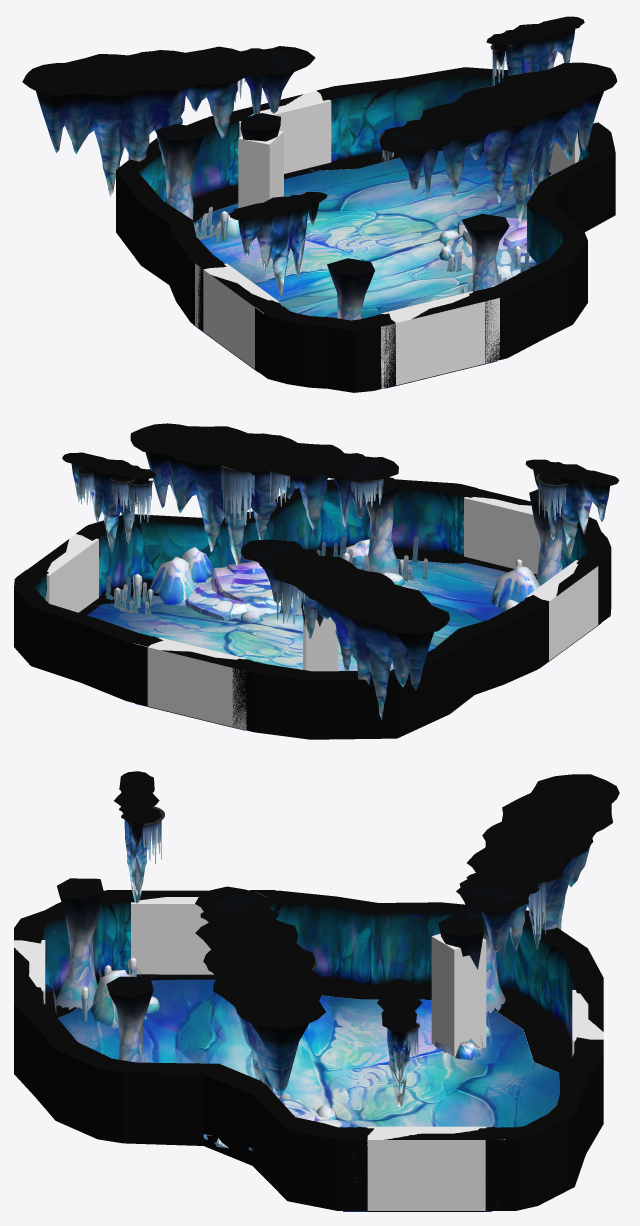
The model's file is Dungeon_072_Room_003.fbx.
3 renders of one model, top to bottom at view 1: azimuth 30°, elevation 25°; view 2: azimuth 150°, elevation 25°; view 3: azimuth 270°, elevation 25°, orthographic. The views are drawn at different scales.
Parts seen in each view (by area): view 1: Dun_072_Room_003_top, Dun_072_Room_003_wall, Dun_072_Room_003_ground, DoorWay_NavMask (3) (×2), DoorWay_NavMask (1) (×4), Dun_072_OB_Pillar, Dun_072_Door_002 (×3), cube_061_pillar, Dun_072_OB_Big_stone, Dun_072_Room_003_shadow, Dun_072_OB_Ice_crystals02, Dun_072_OB_Icicle; view 2: Dun_072_Room_003_wall, Dun_072_Room_003_top, DoorWay_NavMask (1) (×4), Dun_072_Room_003_ground, Dun_072_OB_Icicle, DoorWay_NavMask (3), Dun_072_Door_002 (×4), Dun_072_OB_Pillar, Dun_072_OB_Stone02, Dun_072_OB_Big_stone, Dun_072_OB_Ice_crystals02, cube_061_pillar (+3 smaller); view 3: Dun_072_Room_003_wall, Dun_072_Room_003_top, Dun_072_Room_003_ground, DoorWay_NavMask (1) (×3), Dun_072_OB_Pillar, DoorWay_NavMask (3), Dun_072_Door_002 (×4), cube_061_pillar, Dun_072_Room_003_shadow, Dun_072_OB_Icicle, Dun_072_OB_Stone02, Dun_072_OB_Big_stone (+1 smaller).
Boxes of the visible parts, x1,y1,x2,y2 form: Dun_072_Room_003_top: [22, 16, 617, 295]; Dun_072_Room_003_wall: [116, 67, 615, 392]; Dun_072_Room_003_ground: [193, 150, 532, 388]; DoorWay_NavMask (3) (×2): [195, 263, 499, 388]; DoorWay_NavMask (1) (×4): [203, 91, 579, 384]; Dun_072_OB_Pillar: [156, 113, 509, 320]; Dun_072_Door_002 (×3): [193, 86, 503, 385]; cube_061_pillar: [238, 130, 283, 208]; Dun_072_OB_Big_stone: [443, 217, 536, 280]; Dun_072_Room_003_shadow: [192, 146, 484, 222]; Dun_072_OB_Ice_crystals02: [194, 173, 553, 295]; Dun_072_OB_Icicle: [234, 44, 557, 169]; Dun_072_Room_003_wall: [14, 479, 611, 739]; Dun_072_Room_003_top: [62, 423, 619, 720]; DoorWay_NavMask (1) (×4): [45, 497, 598, 726]; Dun_072_Room_003_ground: [87, 559, 600, 730]; Dun_072_OB_Icicle: [77, 465, 568, 624]; DoorWay_NavMask (3): [134, 642, 246, 730]; Dun_072_Door_002 (×4): [16, 483, 608, 727]; Dun_072_OB_Pillar: [301, 477, 562, 626]; Dun_072_OB_Stone02: [149, 539, 539, 607]; Dun_072_OB_Big_stone: [185, 561, 298, 620]; Dun_072_OB_Ice_crystals02: [105, 536, 538, 615]; cube_061_pillar: [303, 617, 338, 671]; Dun_072_Room_003_wall: [14, 890, 603, 1210]; Dun_072_Room_003_top: [114, 771, 619, 1107]; Dun_072_Room_003_ground: [57, 979, 559, 1211]; DoorWay_NavMask (1) (×3): [131, 897, 603, 1210]; Dun_072_OB_Pillar: [55, 878, 505, 1062]; DoorWay_NavMask (3): [356, 1131, 505, 1210]; Dun_072_Door_002 (×4): [14, 890, 603, 1211]; cube_061_pillar: [431, 933, 486, 1056]; Dun_072_Room_003_shadow: [45, 973, 572, 1113]; Dun_072_OB_Icicle: [142, 806, 545, 1064]; Dun_072_OB_Stone02: [90, 970, 491, 1150]; Dun_072_OB_Big_stone: [203, 1099, 350, 1148].
Size of what is drawn, in the model's own units: 16.46 by 5.05 by 15.57.
